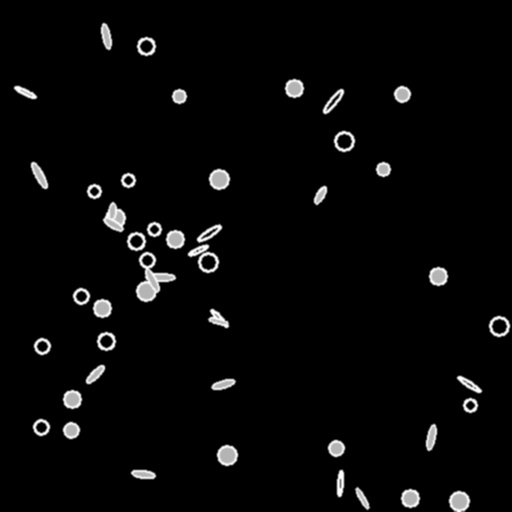pseudomonas: (321, 88, 345, 114), (196, 223, 222, 243), (30, 161, 48, 189), (456, 375, 482, 393), (209, 308, 229, 328), (85, 364, 105, 384), (144, 268, 160, 292), (354, 487, 370, 509), (103, 216, 123, 232), (100, 23, 112, 49), (14, 85, 36, 99), (313, 185, 327, 205), (212, 378, 234, 390), (131, 469, 155, 479), (426, 425, 436, 449), (188, 244, 208, 256), (208, 316, 228, 326), (146, 274, 174, 280), (337, 470, 343, 496), (108, 203, 116, 219)
synechocystis: (199, 253, 217, 271), (335, 132, 353, 150), (137, 282, 155, 300), (450, 492, 468, 510), (210, 170, 228, 188), (106, 209, 124, 227), (218, 446, 236, 464), (490, 317, 508, 335), (98, 333, 114, 349), (94, 300, 110, 316), (138, 38, 154, 54), (167, 231, 183, 247), (286, 80, 302, 96), (128, 233, 144, 249), (64, 391, 80, 407), (402, 490, 418, 506), (430, 268, 446, 284), (34, 420, 48, 434), (35, 339, 49, 353), (395, 87, 409, 101), (64, 423, 78, 437), (140, 253, 154, 267), (74, 289, 88, 303), (329, 441, 343, 455), (148, 223, 160, 235), (173, 90, 185, 102), (122, 174, 134, 186), (377, 163, 389, 175), (88, 185, 100, 197), (464, 399, 476, 411)
